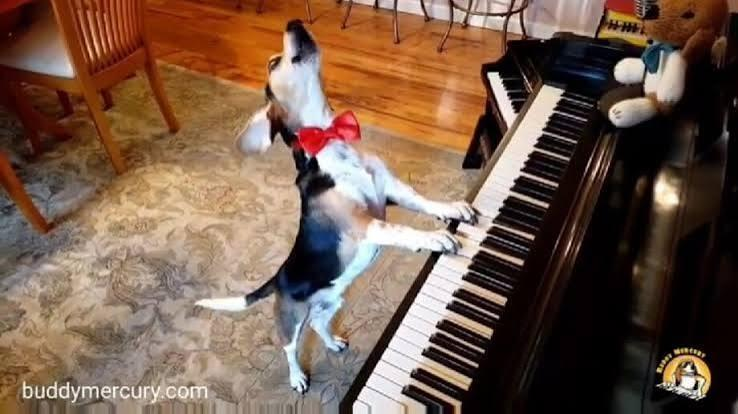adult_dog: (199, 16, 477, 395)
